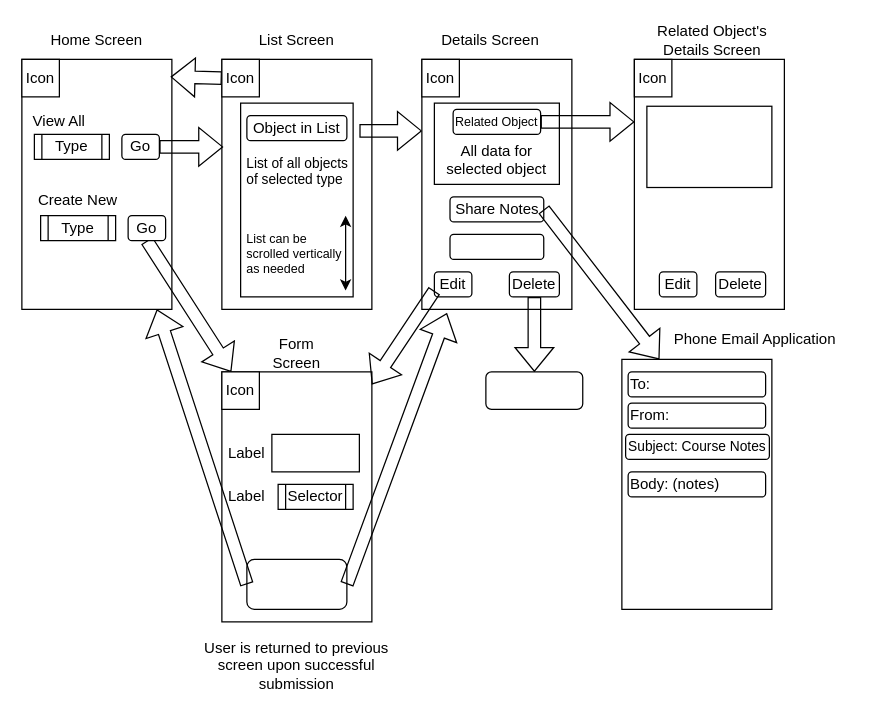
The diagram is 881 pixels wide and 714 high, and some of its shapes have lost their labels. The centre of each missing label's shape, as x and y in pixels:
"All data of related object" goes at (709,146).
"Confirmation Prompt" goes at (534,390).
"Create Alerts" goes at (496,246).
"Fill in" goes at (315,452).
"Submit" goes at (296,583).
